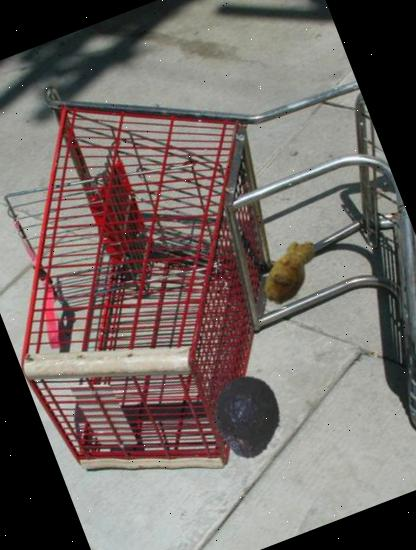Avocado: (195, 363, 304, 472)
Ginger: (242, 224, 338, 320)
